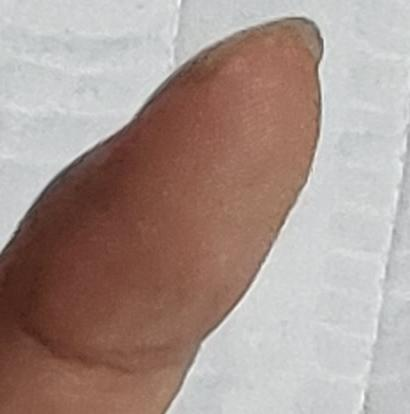Fingerprints: (0, 30, 323, 352)
